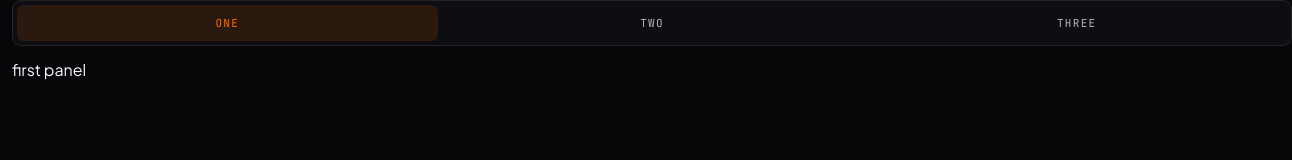
Tabs › opens the tab that was clicked
Click the tab "Two": {"x": 652, "y": 23} [442,5,862,41]
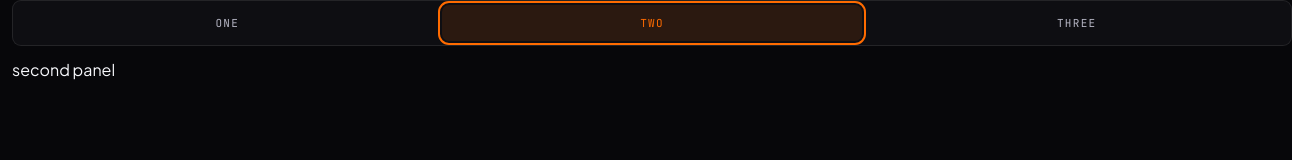
Now the text "second panel" is shown, box [12,59,115,80]
Now the text "first panel" is gone
